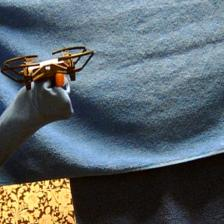drone: (3, 47, 93, 87)
